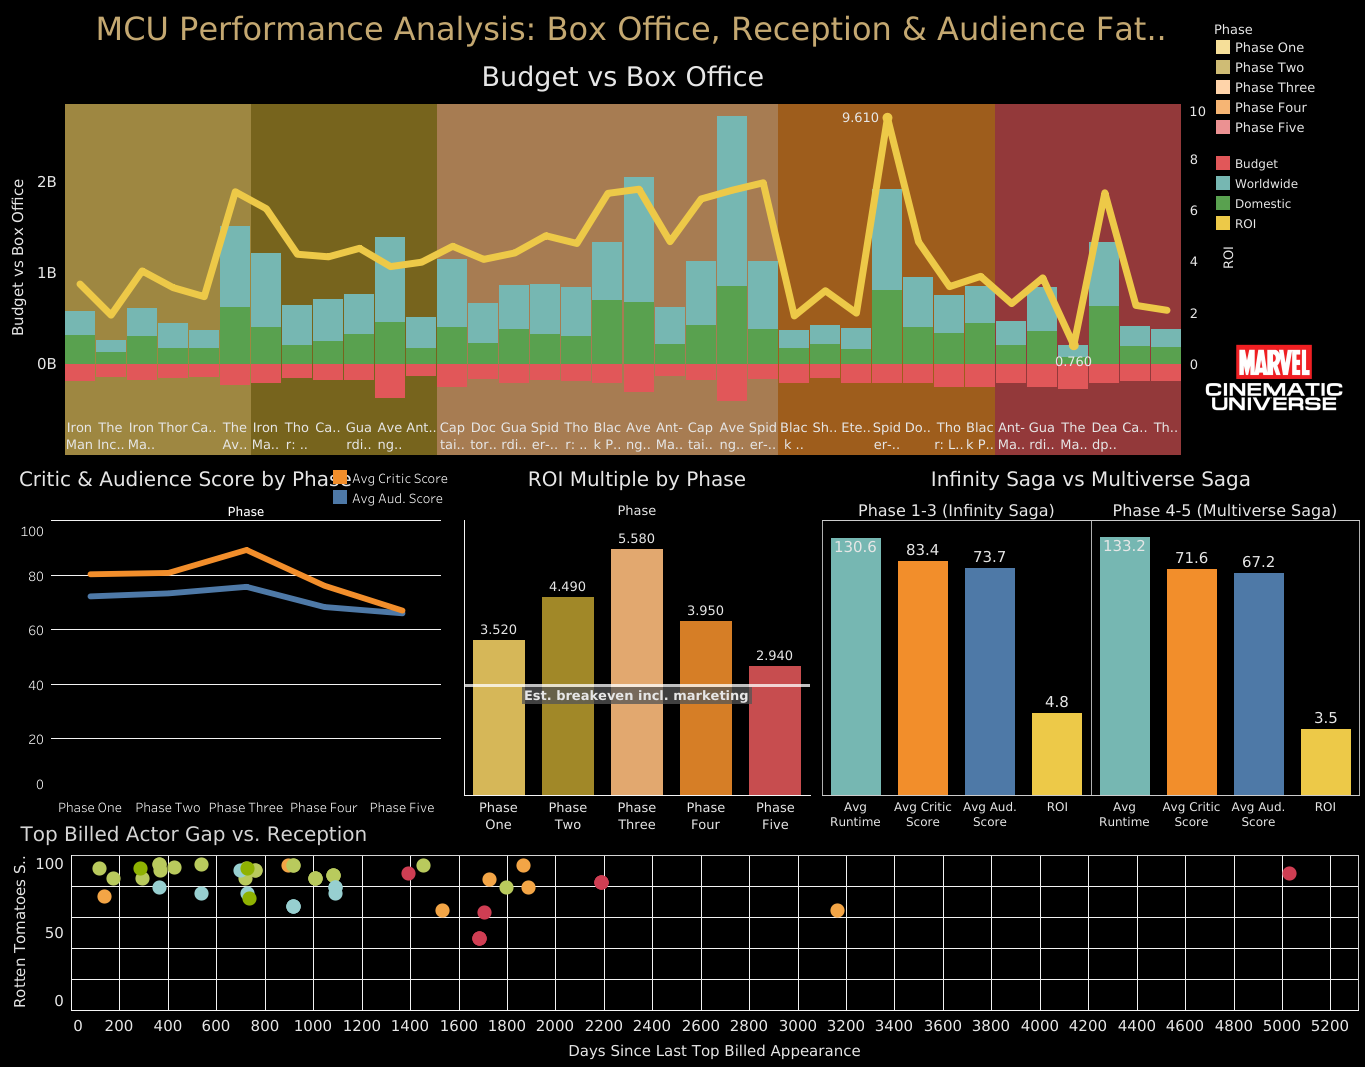

What the dashboard file says about the page in this screenshot:
{"tool":"tableau","page":{"name":"Dashboard 1","canvas":[1366,1068],"ordinal":0},"visuals":[{"type":"text","box":[93,1.4,1076,54.2]},{"type":"legend","title":"Phases","param":"[federated.1vtwotx0ffpm6q1cpgson1r9a5l9].[none:phase:nk]","box":[1213,19,140,123]},{"type":"worksheet","title":"Budget vs Box Office","mark":"Bar","rows":["roi_multiple"],"cols":["title"],"box":[2,54,1242,401]},{"type":"worksheet","title":"Phases","mark":"Bar","rows":["Calculation_4980066410680778754"],"cols":["title"],"box":[65,104,1116,351]},{"type":"legend","title":"Budget vs Box Office","param":"[federated.1vtwotx0ffpm6q1cpgson1r9a5l9].[:Measure Names]","box":[1213,153,136,86]},{"type":"image","param":"Image/MCU-Logo.jpg","box":[1179,335,185,124]},{"type":"worksheet","title":"Critic & Audience Score by Phase","mark":"Line","rows":["avg_critic_score","avg_audience_score_scaled"],"cols":["phase"],"box":[15,461,427,373]},{"type":"worksheet","title":"ROI Multiple by Phase","mark":"Bar","rows":["avg_roi_multiple"],"cols":["phase"],"box":[464,461,346,374]},{"type":"worksheet","title":"Infinity Saga vs Multiverse Saga","mark":"Automatic","cols":["era"],"box":[822,461,538,373]},{"type":"legend","title":"Critic & Audience Score by Phase","param":"[federated.1vtwotx0ffpm6q1cpgson1r9a5l9].[:Measure Names]","box":[330,467,127,47]},{"type":"worksheet","title":"Top Billed Actor Gap vs. Reception","mark":"Circle","rows":["rotten_tomatoes_clean"],"cols":["days_since_last_appearance"],"box":[4,816,1355,252]}]}

Visuals, with their boxes in screenshot pixels (x1, y1, x2, y2), scaled from the page's 1366x1068 canvas onto the 1365x1067 screenshot:
text: select_region(93, 1, 1168, 56)
"Phases" legend: select_region(1212, 19, 1352, 142)
"Budget vs Box Office" worksheet (Bar marks): select_region(2, 54, 1243, 455)
"Phases" worksheet (Bar marks): select_region(65, 104, 1180, 455)
"Budget vs Box Office" legend: select_region(1212, 153, 1348, 239)
image: select_region(1178, 335, 1363, 459)
"Critic & Audience Score by Phase" worksheet (Line marks): select_region(15, 461, 442, 833)
"ROI Multiple by Phase" worksheet (Bar marks): select_region(464, 461, 809, 834)
"Infinity Saga vs Multiverse Saga" worksheet: select_region(821, 461, 1359, 833)
"Critic & Audience Score by Phase" legend: select_region(330, 467, 457, 514)
"Top Billed Actor Gap vs. Reception" worksheet (Circle marks): select_region(4, 815, 1358, 1066)
